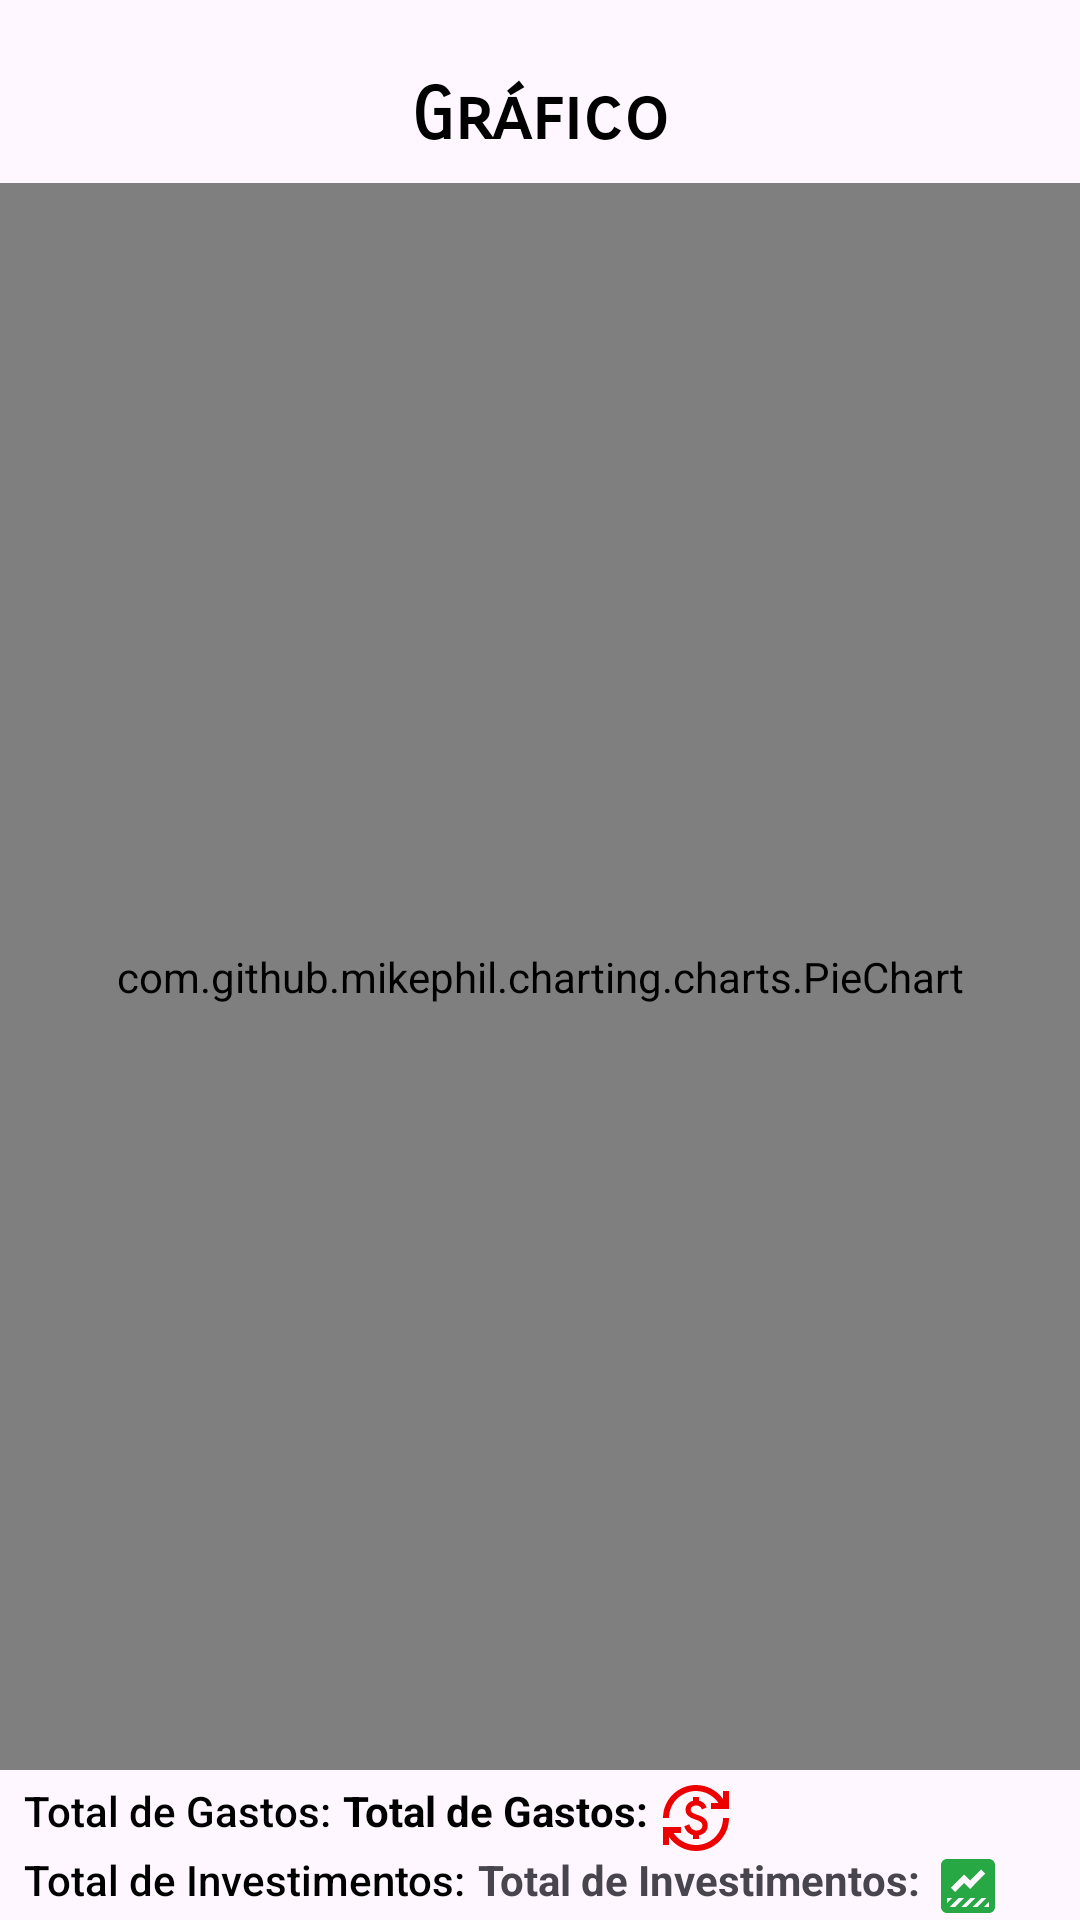

Screen size 1080px x 1920px. Icon name, then its box in pixels as [x1=x1, y1=y1, x2=x2, y2=y2]:
currency exchange: [x1=663, y1=1785, x2=729, y2=1851]
data thresholding: [x1=941, y1=1859, x2=995, y2=1913]
